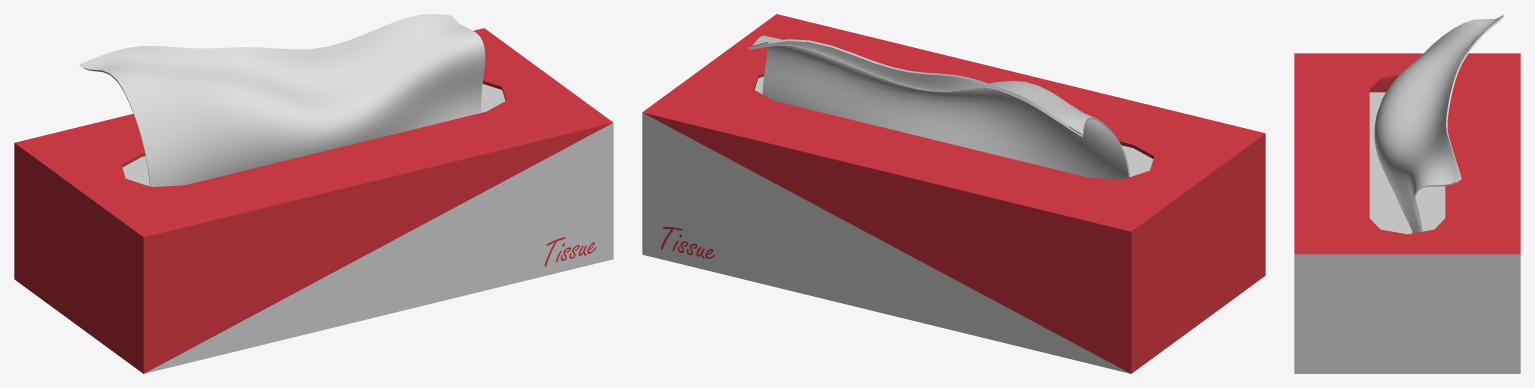
File: KotakTisue.fbx
3 renders of one model, left to right at view 1: azimuth 30°, elevation 25°; view 2: azimuth 150°, elevation 25°; view 3: azimuth 270°, elevation 25°, orthographic. The views are drawn at different scales.
Visible parts, largest first — view 1: KotakTisu; view 2: KotakTisu; view 3: KotakTisu.
Boxes of the visible parts, box(x1,y1,x2,y2) form: KotakTisu: box(14, 14, 613, 373); KotakTisu: box(642, 14, 1265, 373); KotakTisu: box(1294, 14, 1520, 373).
Size of the model in its own units: 15.12 by 6.75 by 7.2.
